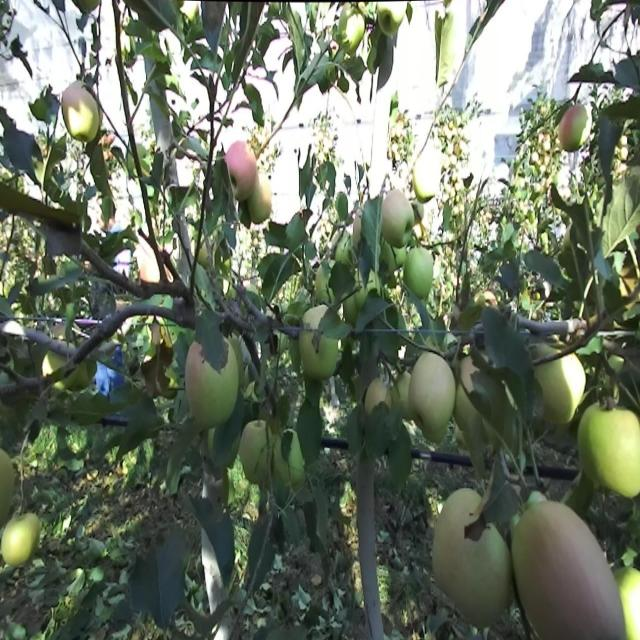apple: (452, 340, 507, 452), (584, 404, 640, 501), (188, 340, 240, 432), (408, 355, 456, 446), (536, 355, 588, 434), (300, 319, 342, 384), (64, 84, 99, 148), (380, 191, 414, 251), (240, 419, 270, 487), (136, 241, 171, 297), (4, 518, 40, 572), (228, 141, 258, 199), (392, 369, 419, 432), (412, 148, 440, 206), (404, 248, 435, 300), (208, 426, 239, 473), (440, 28, 466, 84), (248, 170, 273, 228), (620, 568, 640, 639), (460, 340, 484, 398), (560, 106, 588, 155), (0, 447, 19, 517), (156, 348, 180, 402), (364, 376, 393, 420), (340, 6, 366, 55), (420, 420, 450, 453), (620, 255, 640, 304), (100, 113, 117, 164), (380, 6, 406, 37), (44, 348, 67, 382), (412, 220, 429, 247)
